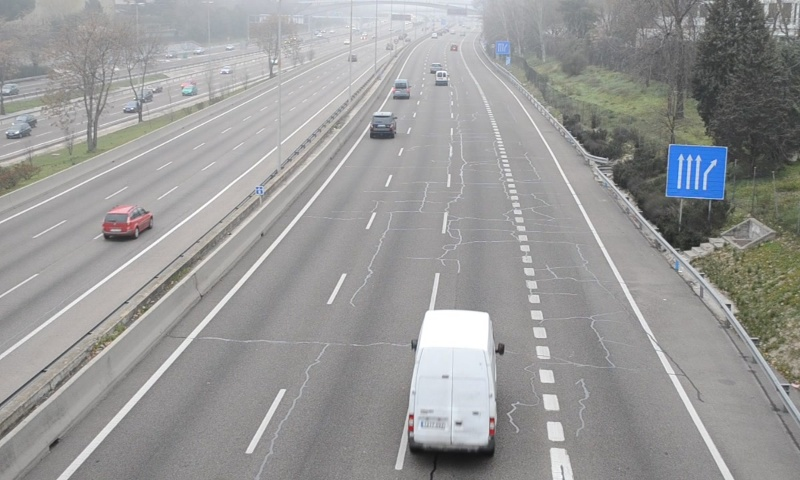car: (369, 112, 396, 138)
van: (407, 310, 496, 456), (392, 78, 410, 99)
